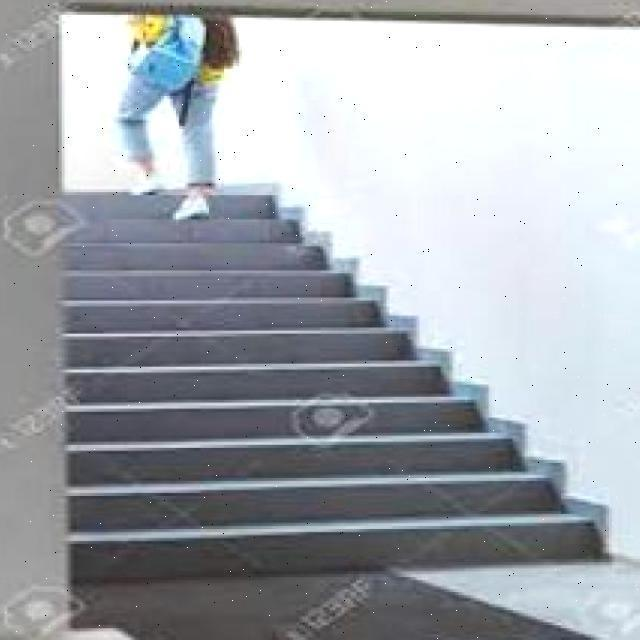stair: (59, 301, 603, 565)
